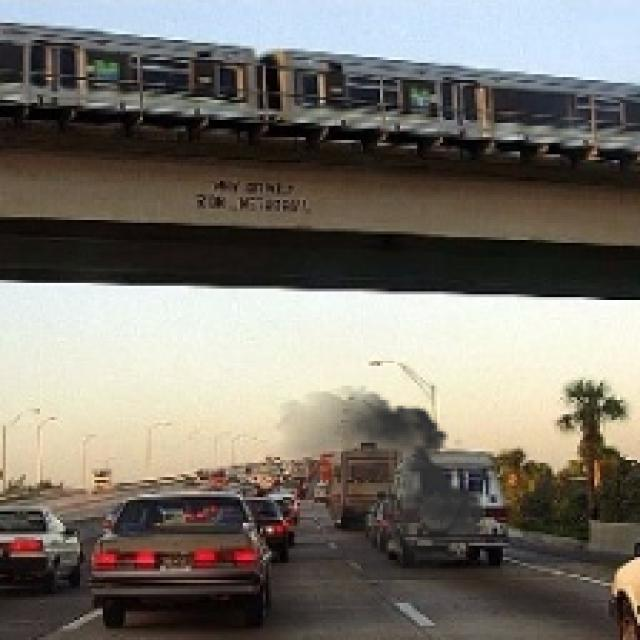Smoke: (262, 386, 494, 614)
